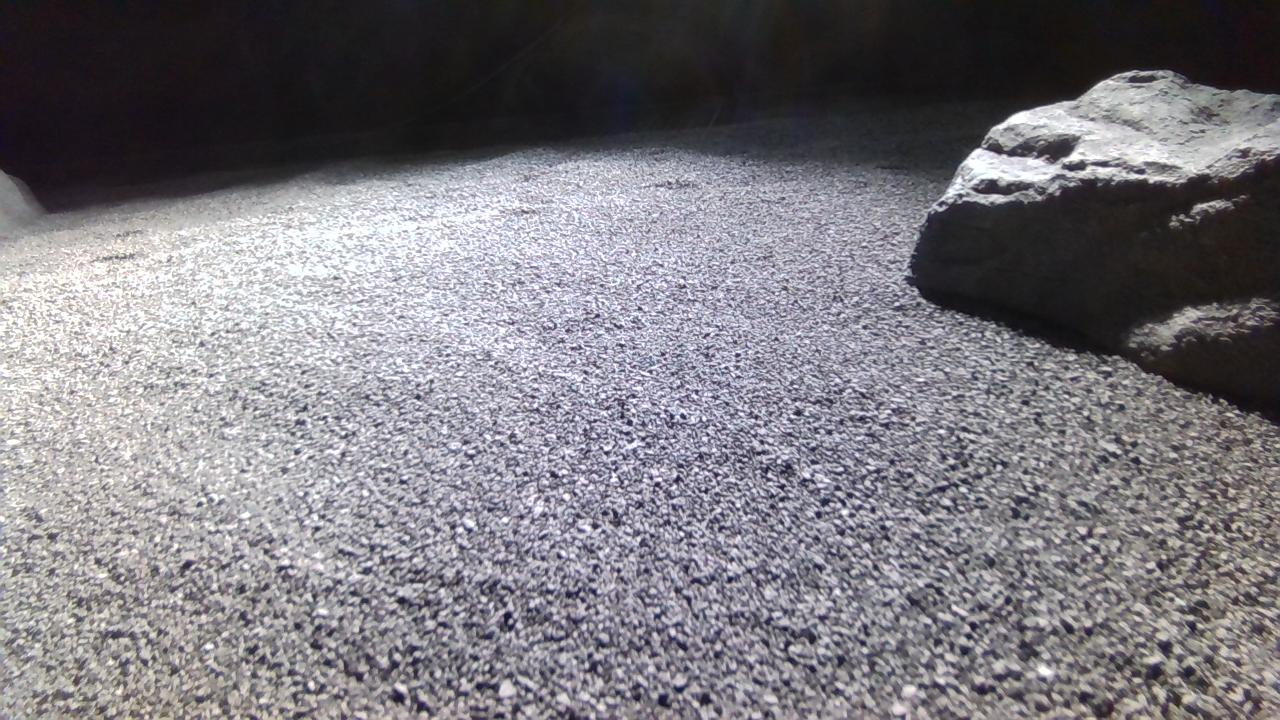rock: (913, 69, 1280, 407), (0, 169, 44, 234)
